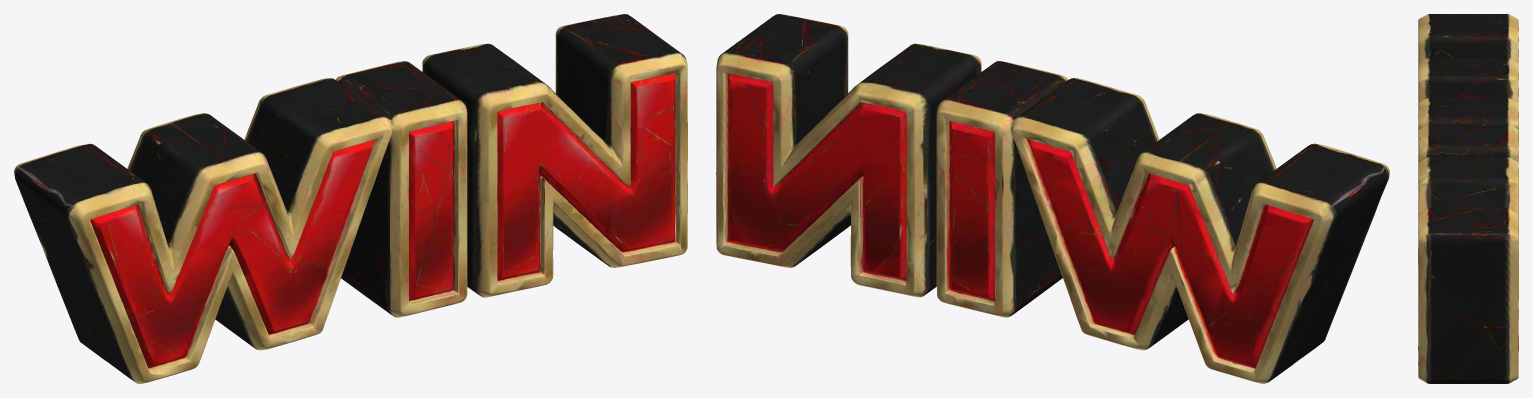
File: win.glb
The picture shows the model from 3 angles, left to right: view 1: azimuth 30°, elevation 25°; view 2: azimuth 150°, elevation 25°; view 3: azimuth 270°, elevation 25°; orthographic projection. The views are drawn at different scales.
Size of the model in its own units: 1.89 by 0.6139 by 0.3554.
1 material, 1 textured.
